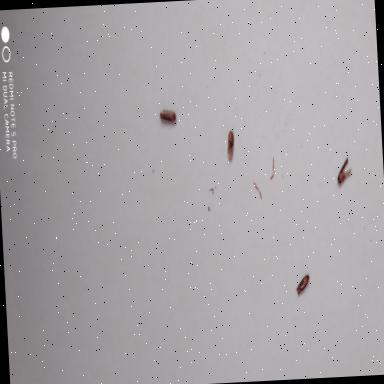pbw: (335, 155, 354, 186), (224, 127, 238, 164), (156, 104, 178, 127), (293, 272, 312, 298)
